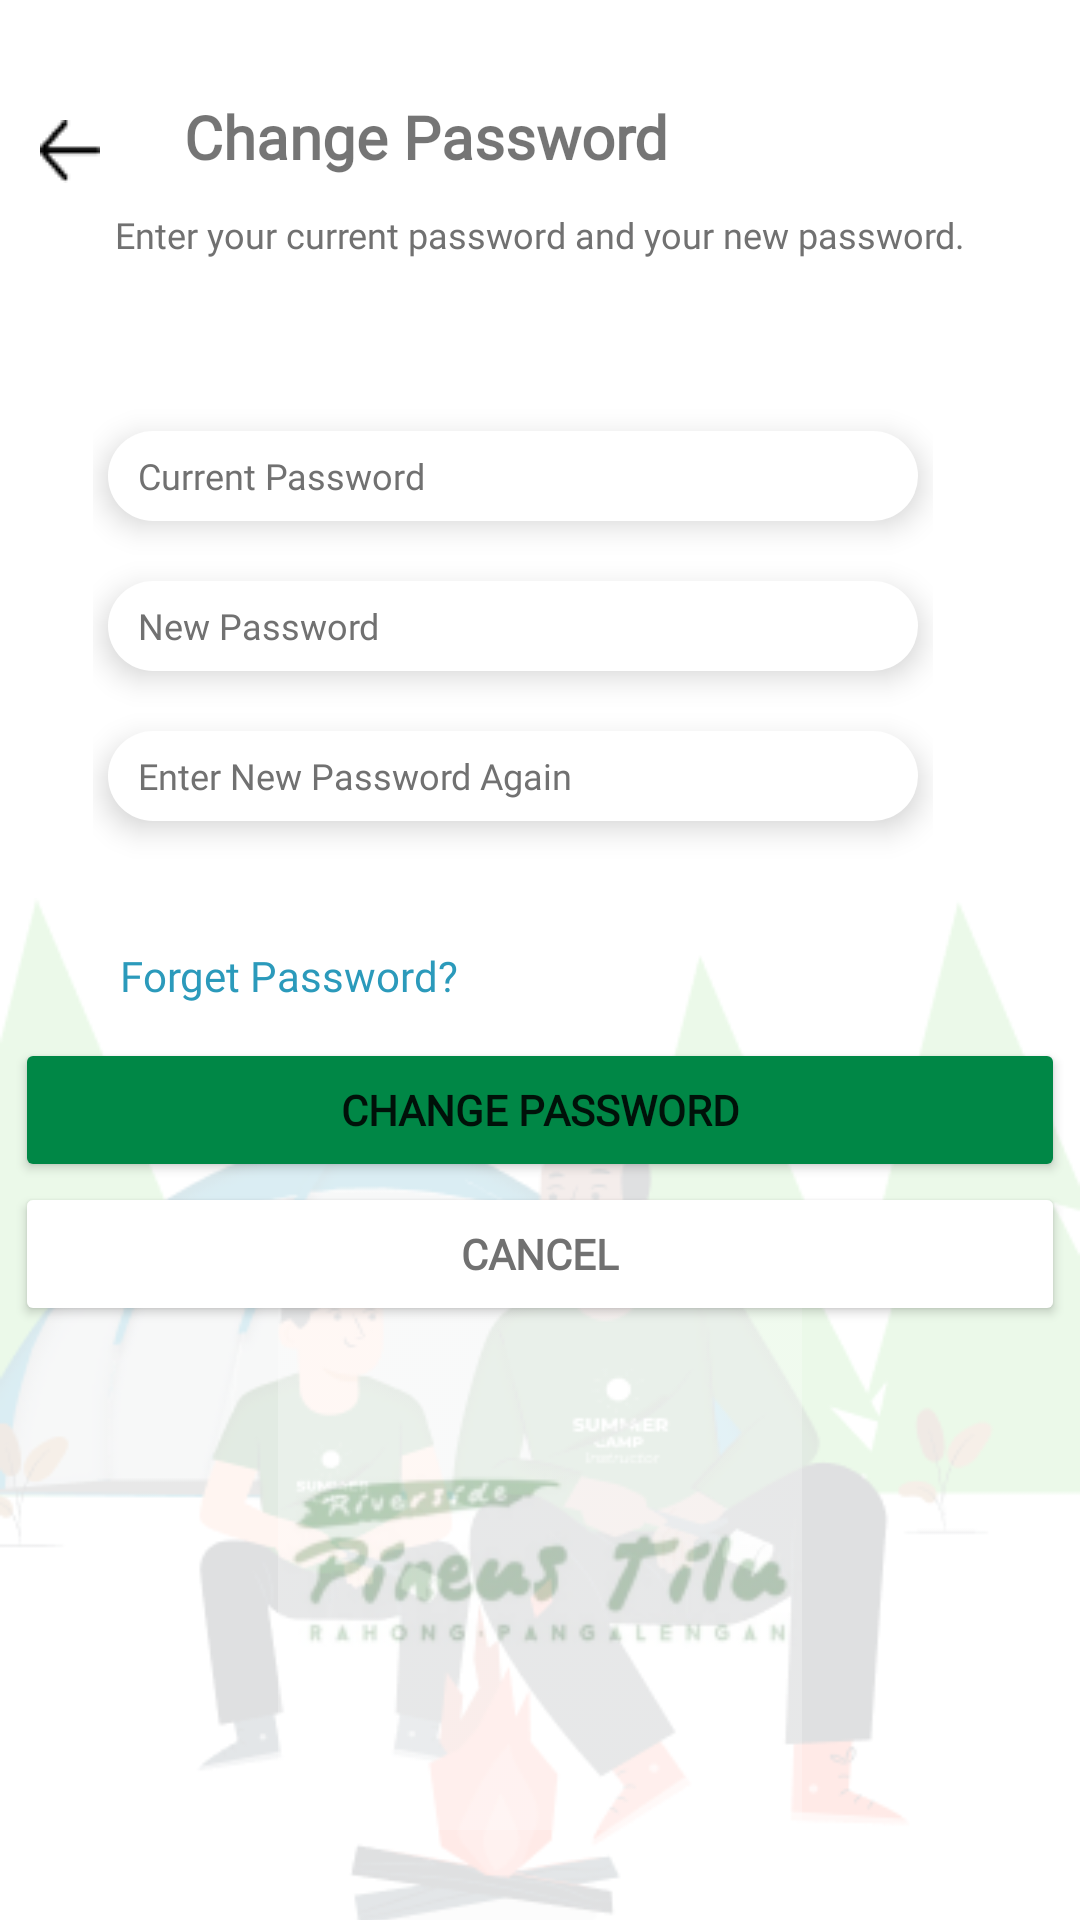

Screen size 1080w x 1920h. Icon name, then its center in pixels as [x,y]:
back: [70,150]
